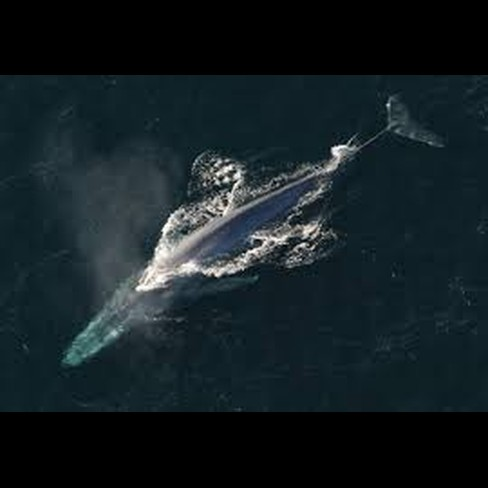bluewhale: (53, 92, 450, 376)
